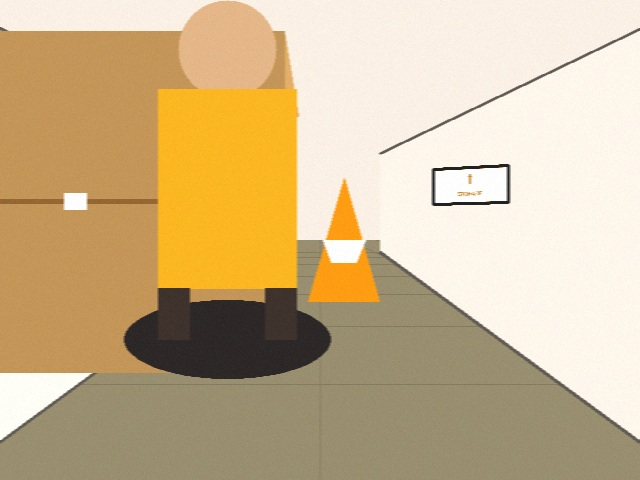box: (0, 31, 298, 372)
directional_sign: (433, 165, 508, 204)
obstacle: (308, 178, 379, 301)
person: (128, 0, 326, 339)
